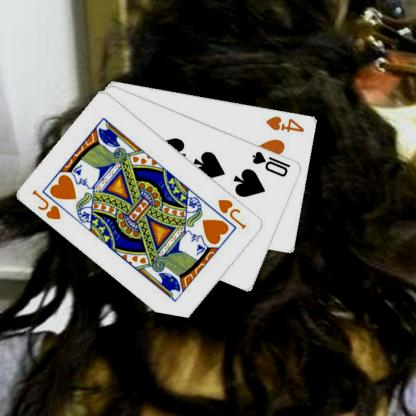10S: (250, 148, 292, 178)
4H: (264, 113, 305, 133)
JH: (215, 196, 248, 231), (30, 187, 62, 221)
